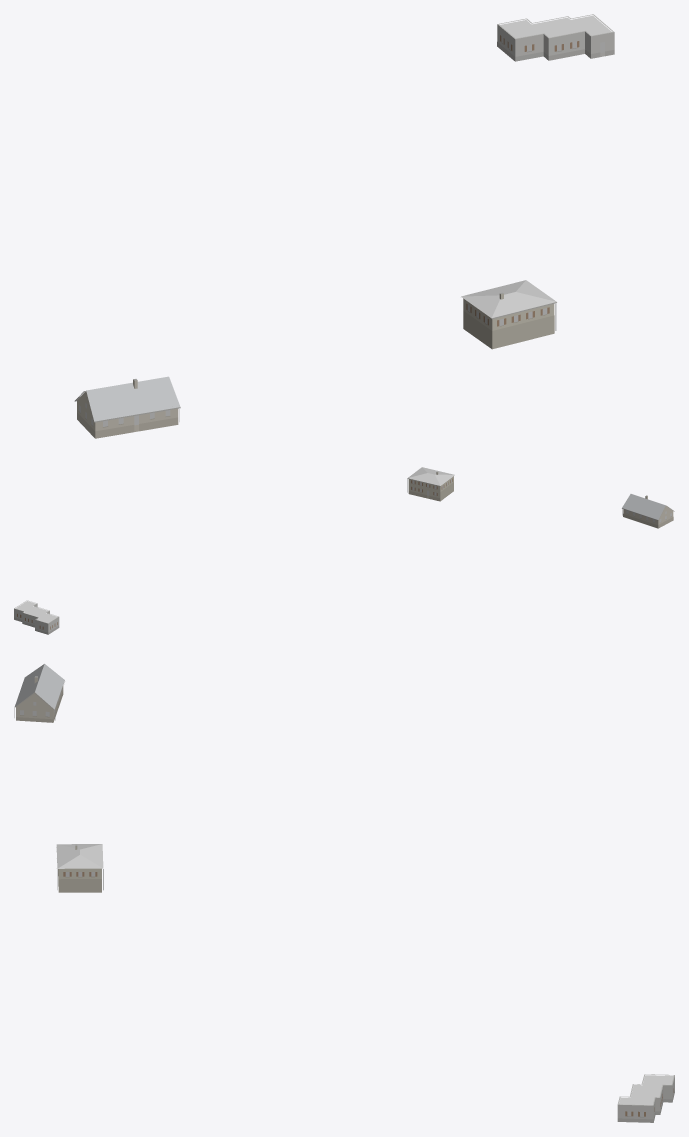
The picture shows the model from 3 angles, top to bottom: view 1: azimuth 30°, elevation 25°; view 2: azimuth 150°, elevation 25°; view 3: azimuth 270°, elevation 25°; orthographic projection. The views are drawn at different scales.
Visible parts, largest first — view 1: bld; view 2: bld; view 3: bld.
Boxes of the visible parts, x1,y1,x2,y2 form: bld: (74, 14, 614, 438); bld: (14, 467, 674, 634); bld: (14, 664, 674, 1122).
Bounding box in the file's own units: 200 × 34.11 × 164.
